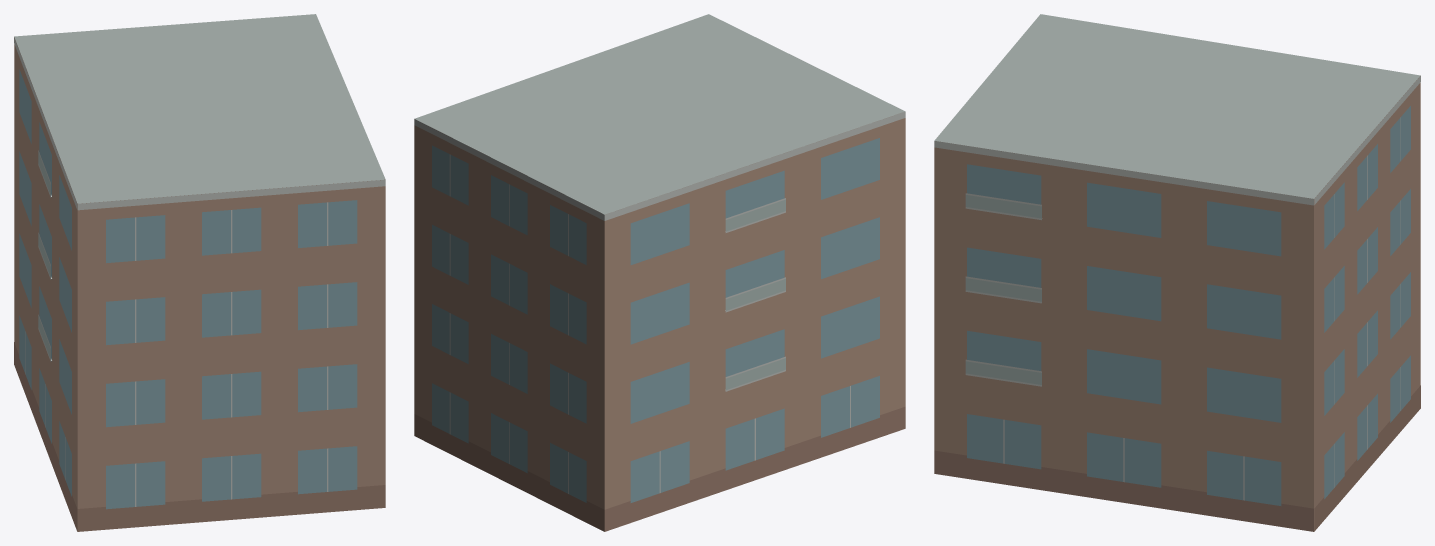
File: residential-f313f22a-670b-46db-80de-946d24a08b8a.glb
3 renders of one model, left to right at view 1: azimuth 30°, elevation 25°; view 2: azimuth 150°, elevation 25°; view 3: azimuth 270°, elevation 25°, orthographic. The views are drawn at different scales.
Visible parts, largest first — view 1: residential-f313f22a-670b-46db-80de-946d24a08b8a.tmp; view 2: residential-f313f22a-670b-46db-80de-946d24a08b8a.tmp; view 3: residential-f313f22a-670b-46db-80de-946d24a08b8a.tmp.
Part boxes in pixels (<box>): residential-f313f22a-670b-46db-80de-946d24a08b8a.tmp: <box>14,14,385,531</box>; residential-f313f22a-670b-46db-80de-946d24a08b8a.tmp: <box>414,14,905,531</box>; residential-f313f22a-670b-46db-80de-946d24a08b8a.tmp: <box>934,14,1420,531</box>.
Bounding box in the file's own units: 14.54 × 12.2 × 16.16.
